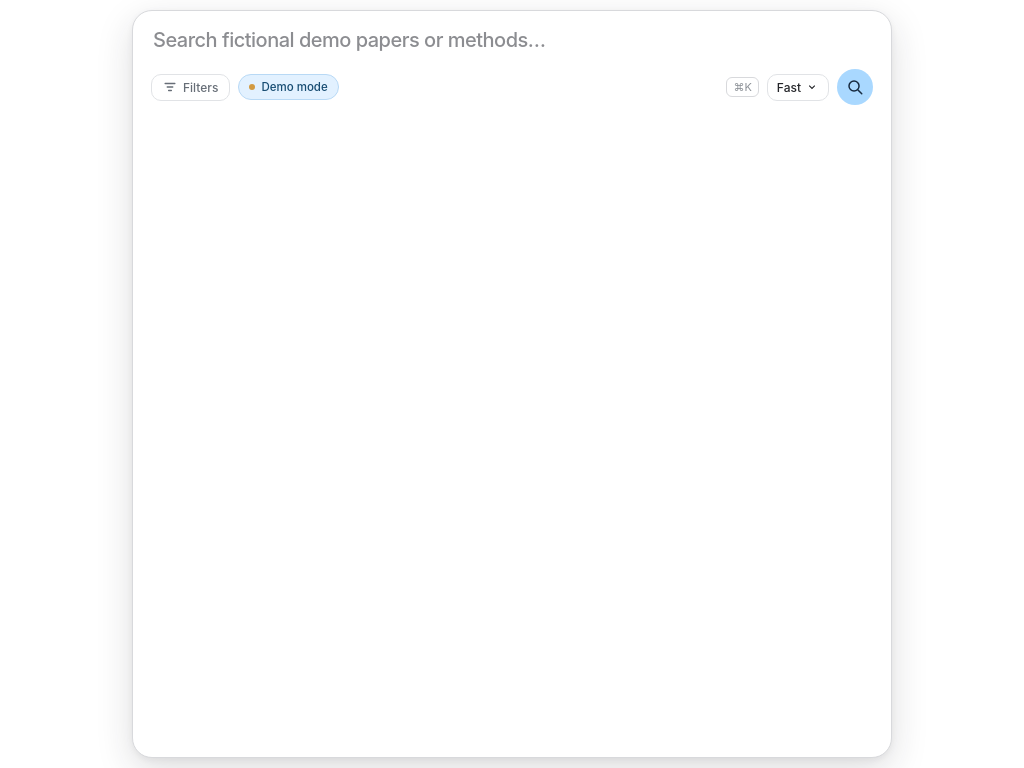
Test: ResearchOS quick-search launcher › offers an explicit broader matching action on multiword zero results
The width and height of the screenshot is (1024, 768).
In the search field: (512, 40) [151,17,873,63], type "unmatched attention"
Then press Enter
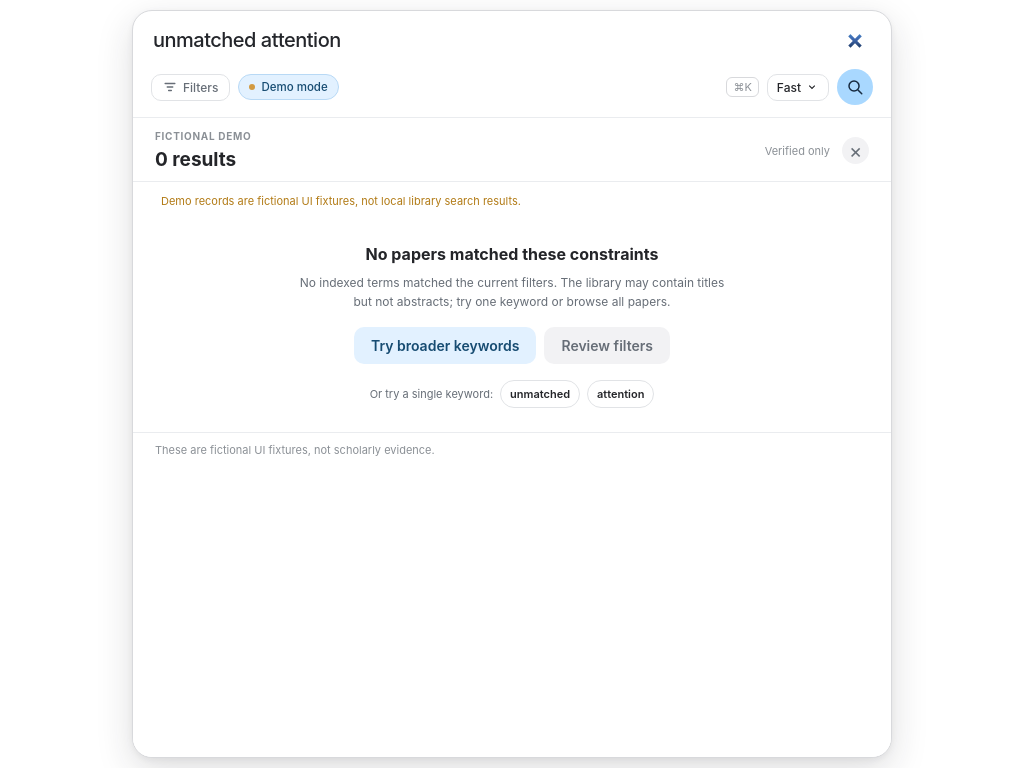
Expected: the heading "No papers matched these constraints" is shown, [366,244,658,264]
Click the button "Try broader keywords": (445, 346) [354,327,536,364]
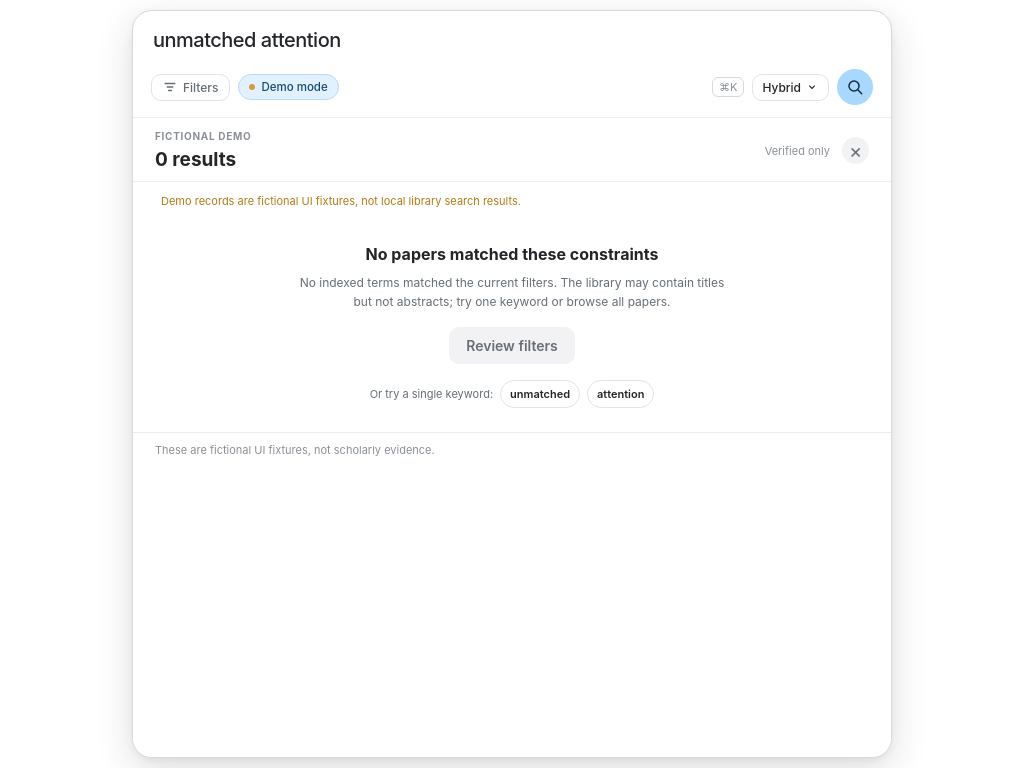
Expected: the button with aria-label "search mode: hybrid" is shown, [752,74,829,100]
